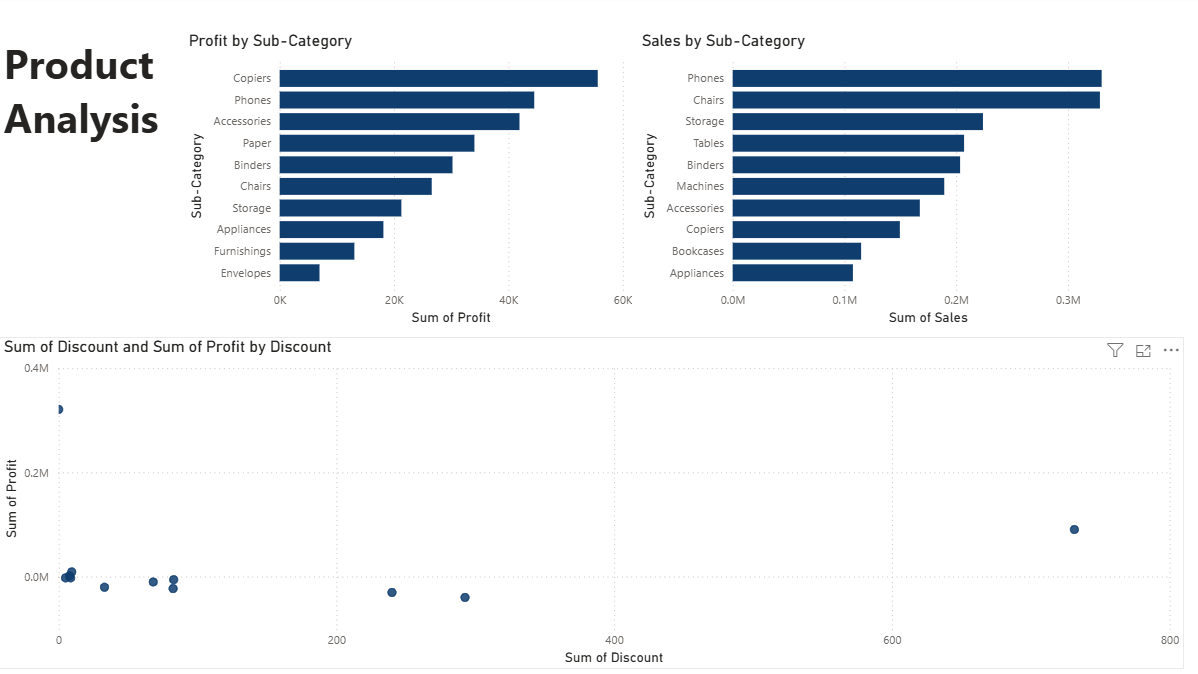

The page's visual inventory and layout, read from the dashboard file:
{"tool":"powerbi","page":{"name":"Page 3","canvas":[1280,720],"ordinal":2},"visuals":[{"type":"clusteredBarChart","title":" Sales by Sub-Category","fields":{"Category":["Sample - Superstore.Sub-Category"],"Y":["Sum(Sample - Superstore.Sales)"]},"box":[673.5,37,533.1,315.7],"z":0},{"type":"clusteredBarChart","title":" Profit by Sub-Category","fields":{"Category":["Sample - Superstore.Sub-Category"],"Y":["Sum(Sample - Superstore.Profit)"]},"box":[195.3,37,478.2,315.7],"z":1000},{"type":"scatterChart","fields":{"X":["Sum(Sample - Superstore.Discount)"],"Y":["Sum(Sample - Superstore.Profit)"],"Category":["Sample - Superstore.Discount"]},"box":[0,360,1250.9,350.9],"z":2000},{"type":"textbox","box":[0,37,195.3,136.2],"z":3000}]}

Visuals, with their boxes in screenshot pixels (x1, y1, x2, y2), scaled from the page's 1280x720 canvas onto the 1198x674 screenshot:
" Sales by Sub-Category" clusteredBarChart: select_region(630, 35, 1129, 330)
" Profit by Sub-Category" clusteredBarChart: select_region(183, 35, 630, 330)
scatterChart - Sum(Sample - Superstore.Discount) x Sum(Sample - Superstore.Profit): select_region(0, 337, 1171, 665)
textbox: select_region(0, 35, 183, 162)
